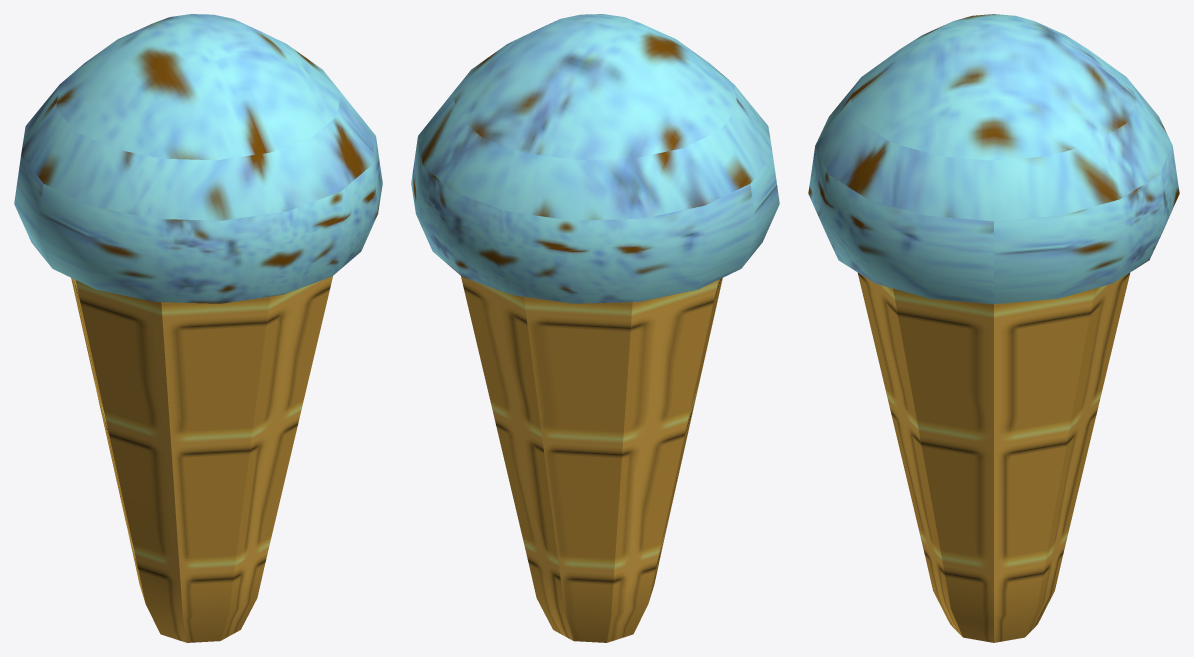
File: IceCreamF.fbx
3 views of the same model, side by side, from view 1: azimuth 30°, elevation 25°; view 2: azimuth 150°, elevation 25°; view 3: azimuth 270°, elevation 25° (orthographic).
Parts seen in each view (by area): view 1: IceCreamF, IceCreamCorn_F; view 2: IceCreamF, IceCreamCorn_F; view 3: IceCreamF, IceCreamCorn_F.
Boxes of the visible parts, x1,y1,x2,y2 form: IceCreamF: (14, 14, 382, 303); IceCreamCorn_F: (71, 276, 332, 642); IceCreamF: (411, 14, 779, 303); IceCreamCorn_F: (461, 276, 722, 642); IceCreamF: (808, 14, 1179, 304); IceCreamCorn_F: (857, 273, 1130, 642).
Bounding box in the file's own units: 106 × 192 × 106.
